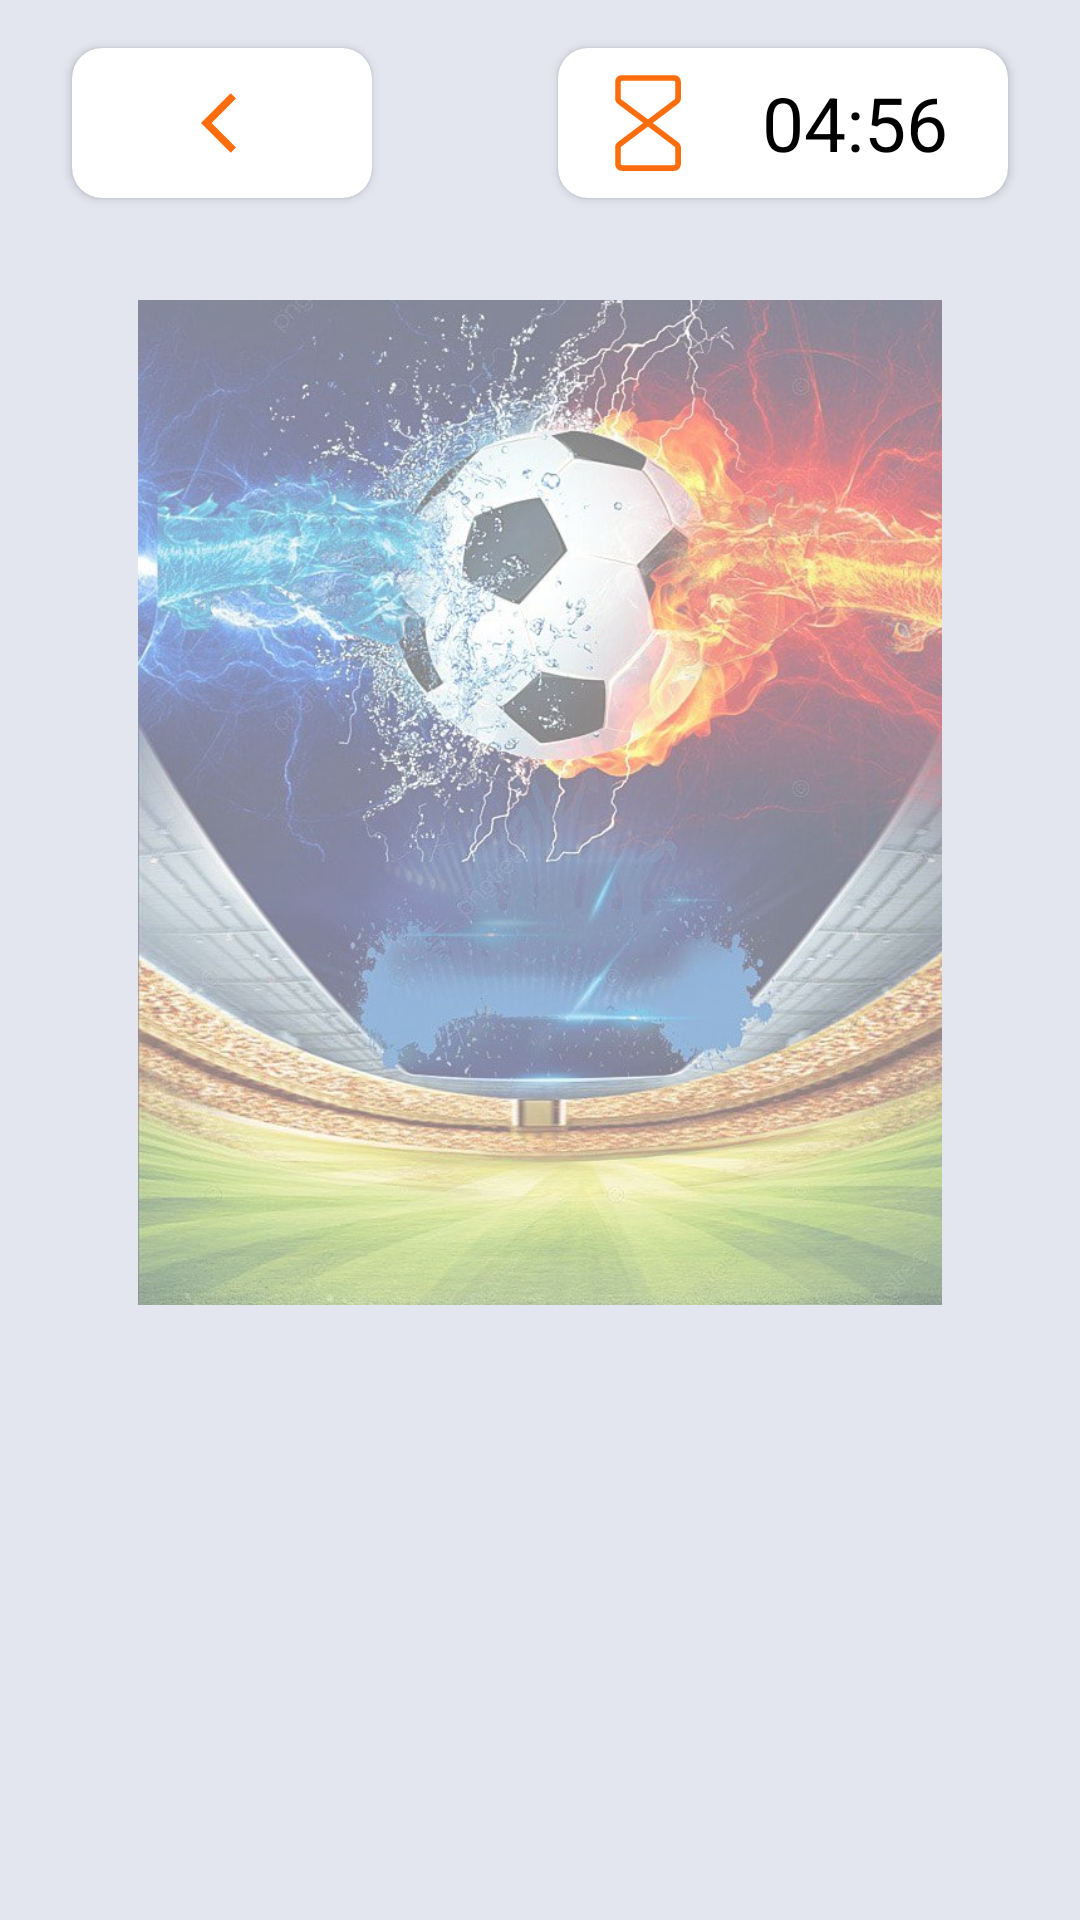

Named icons in this screenshot (1080w x 1920h) and their bounding boxes, (x1, y1, x2, y2):
arrow back: (201, 93, 236, 153)
time: (615, 75, 681, 171)
